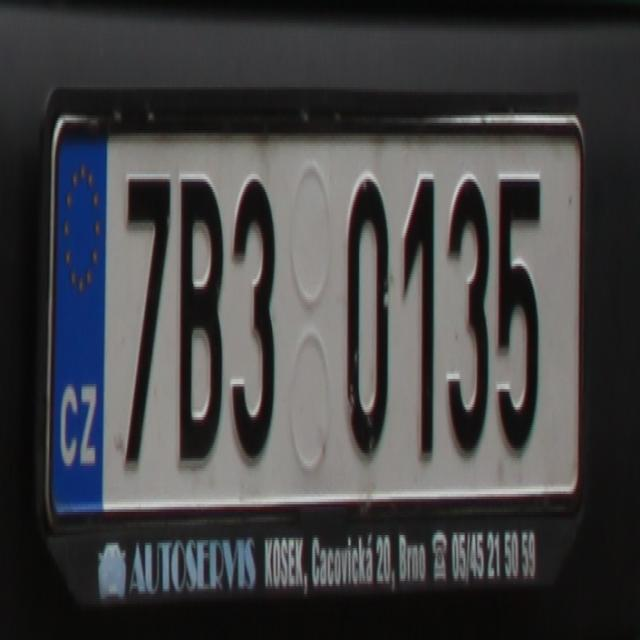0: (343, 169, 389, 468)
1: (403, 174, 437, 466)
3: (228, 177, 280, 463), (448, 172, 490, 456)
5: (498, 169, 541, 461)
7: (122, 169, 172, 474)
B: (177, 172, 223, 468)
